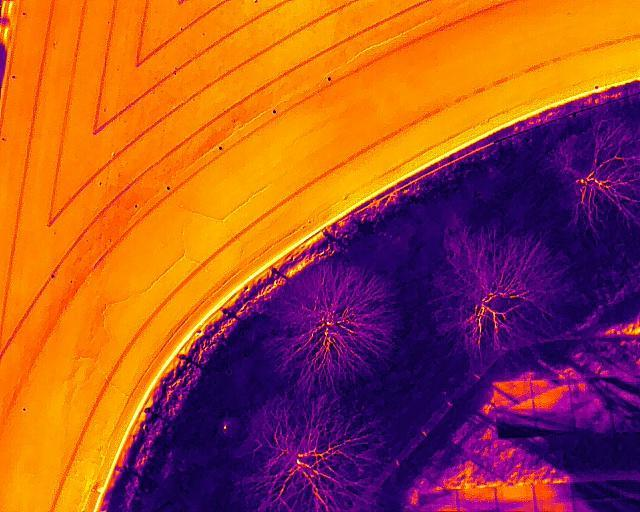Shadowing: (534, 414, 574, 435), (494, 398, 532, 420), (573, 412, 612, 433), (456, 488, 496, 506), (531, 398, 573, 415), (497, 420, 535, 438), (532, 484, 572, 501), (532, 380, 572, 397), (493, 381, 532, 398), (496, 485, 534, 502), (570, 482, 607, 499), (607, 479, 640, 497), (608, 498, 640, 512), (572, 499, 607, 511)
